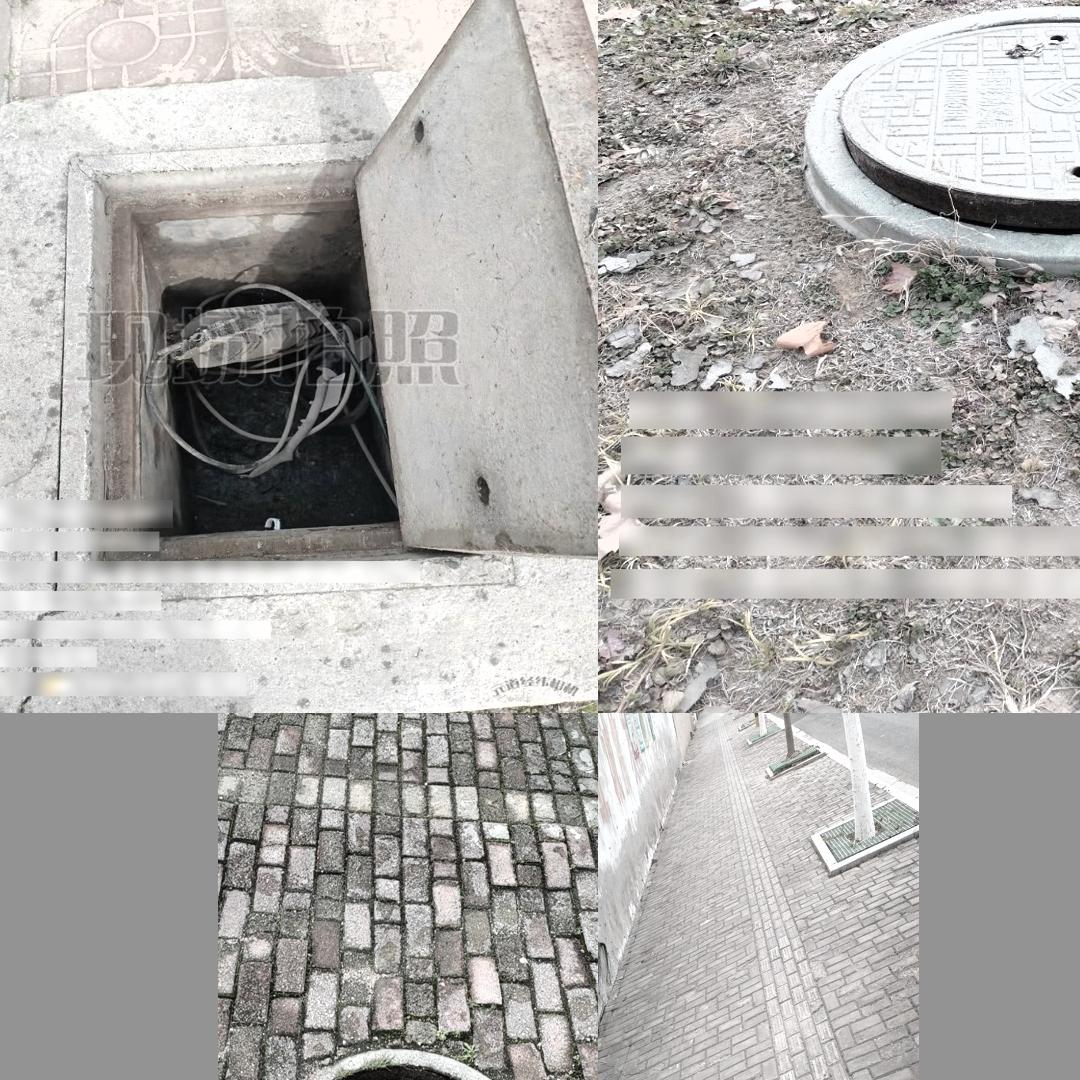uncovered: (60, 0, 598, 601), (805, 6, 1080, 280), (218, 1050, 563, 1080)
